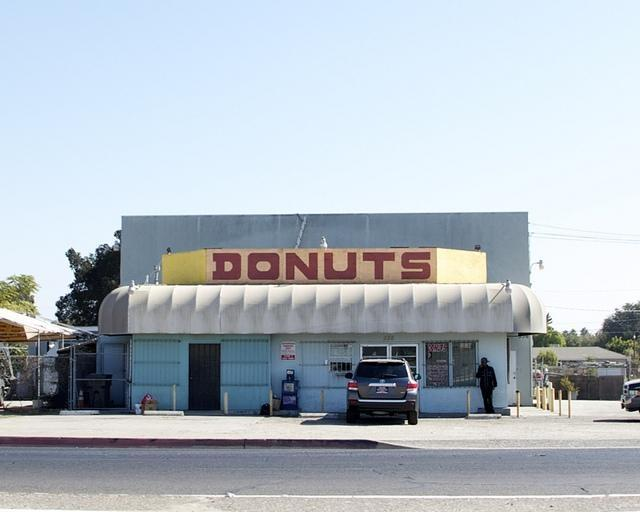car: (343, 358, 422, 424), (620, 379, 640, 413)
truck: (345, 358, 421, 425), (620, 376, 640, 414)
